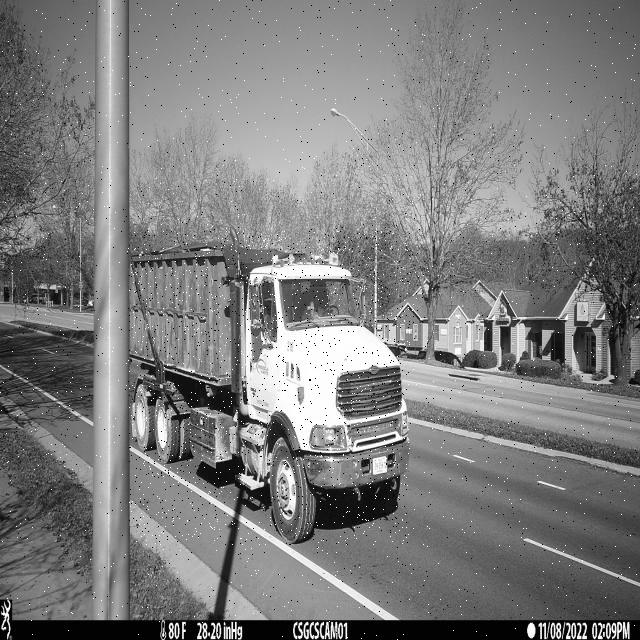Box Truck: (129, 231, 410, 545)
